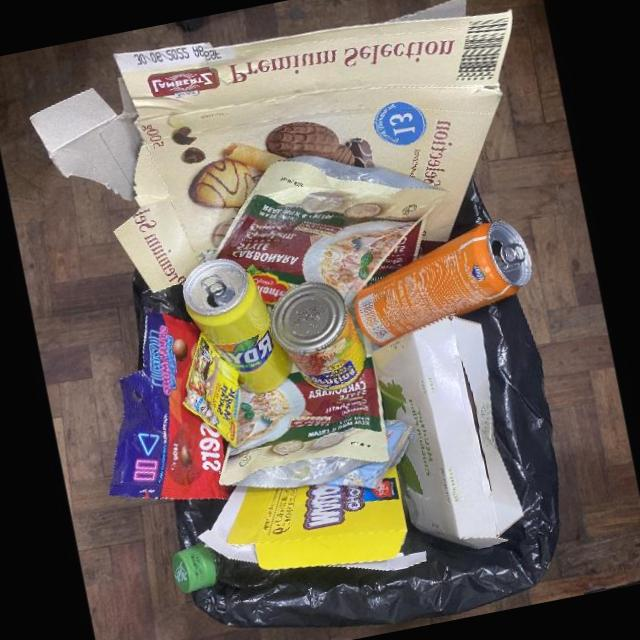bao_bi_thuc_pham: (211, 154, 448, 318), (221, 307, 390, 489), (107, 311, 240, 501), (181, 334, 241, 447)
carton: (32, 0, 516, 297), (374, 317, 524, 550), (199, 462, 427, 570)
nhom: (355, 221, 534, 348), (182, 260, 292, 394), (273, 283, 369, 393)
